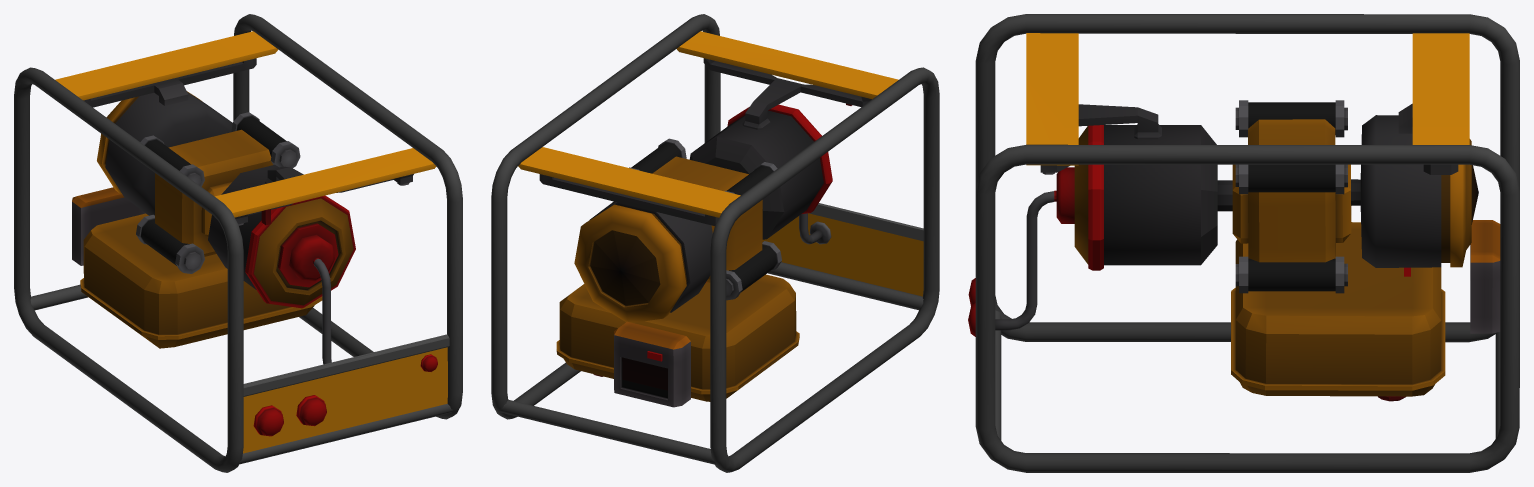
File: Sketchfab_2017_03_21_14_07_47.fbx
3 views of the same model, side by side, from view 1: azimuth 30°, elevation 25°; view 2: azimuth 150°, elevation 25°; view 3: azimuth 270°, elevation 25° (orthographic). The views are drawn at different scales.
Visible parts, largest first — view 1: Generador; view 2: Generador; view 3: Generador.
Part boxes in pixels (x1,y1,x2,y2): Generador: (14,14,462,472); Generador: (491,14,939,472); Generador: (968,14,1519,472).
Size of the model in its own units: 32.96 by 36.1 by 55.22.
